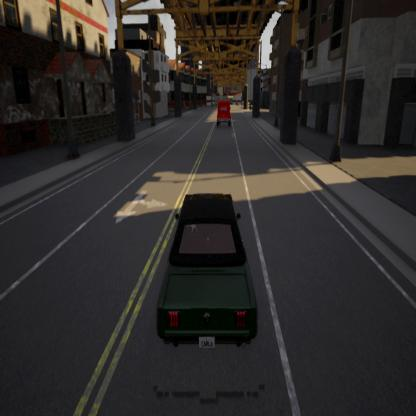Cars: (157, 191, 260, 353), (216, 98, 232, 129)
